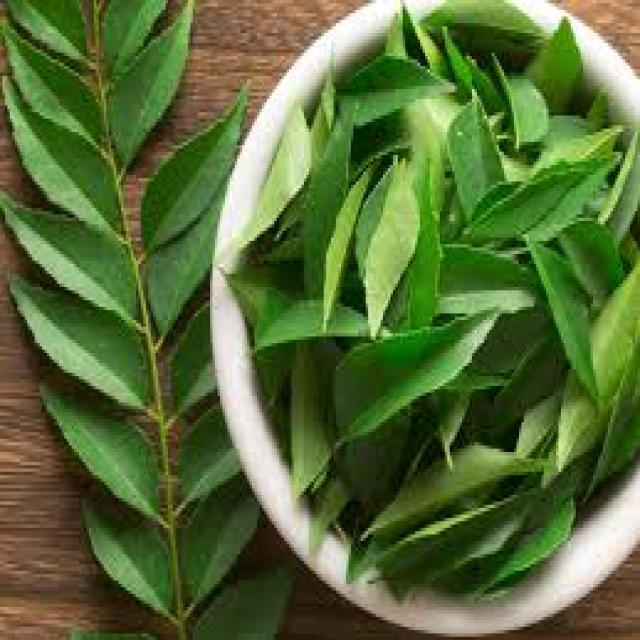healthy_leaf: (1, 0, 630, 605)
